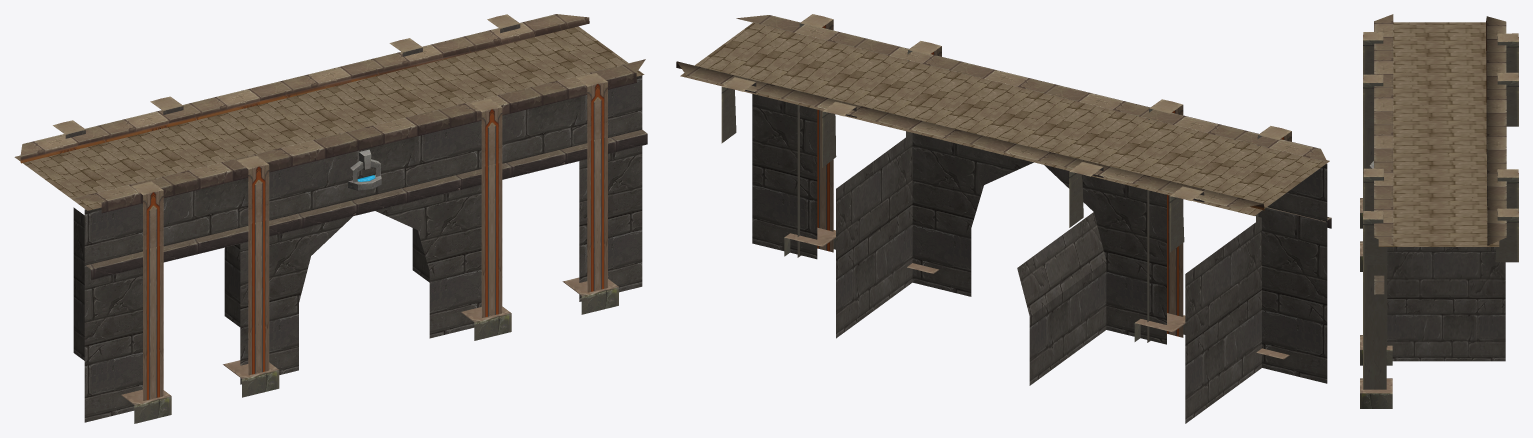
File: terrain_section03_guanka12_bj01.FBX
The picture shows the model from 3 angles, left to right: view 1: azimuth 30°, elevation 25°; view 2: azimuth 150°, elevation 25°; view 3: azimuth 270°, elevation 25°; orthographic projection. The views are drawn at different scales.
Parts seen in each view (by area): view 1: terrain_section03_guanka12_bj01; view 2: terrain_section03_guanka12_bj01; view 3: terrain_section03_guanka12_bj01.
Part boxes in pixels (x1,y1,x2,y2): terrain_section03_guanka12_bj01: (14, 14, 647, 423); terrain_section03_guanka12_bj01: (676, 14, 1331, 423); terrain_section03_guanka12_bj01: (1360, 14, 1518, 408).
Bounding box in the file's own units: 47.61 × 17.93 × 13.8.
